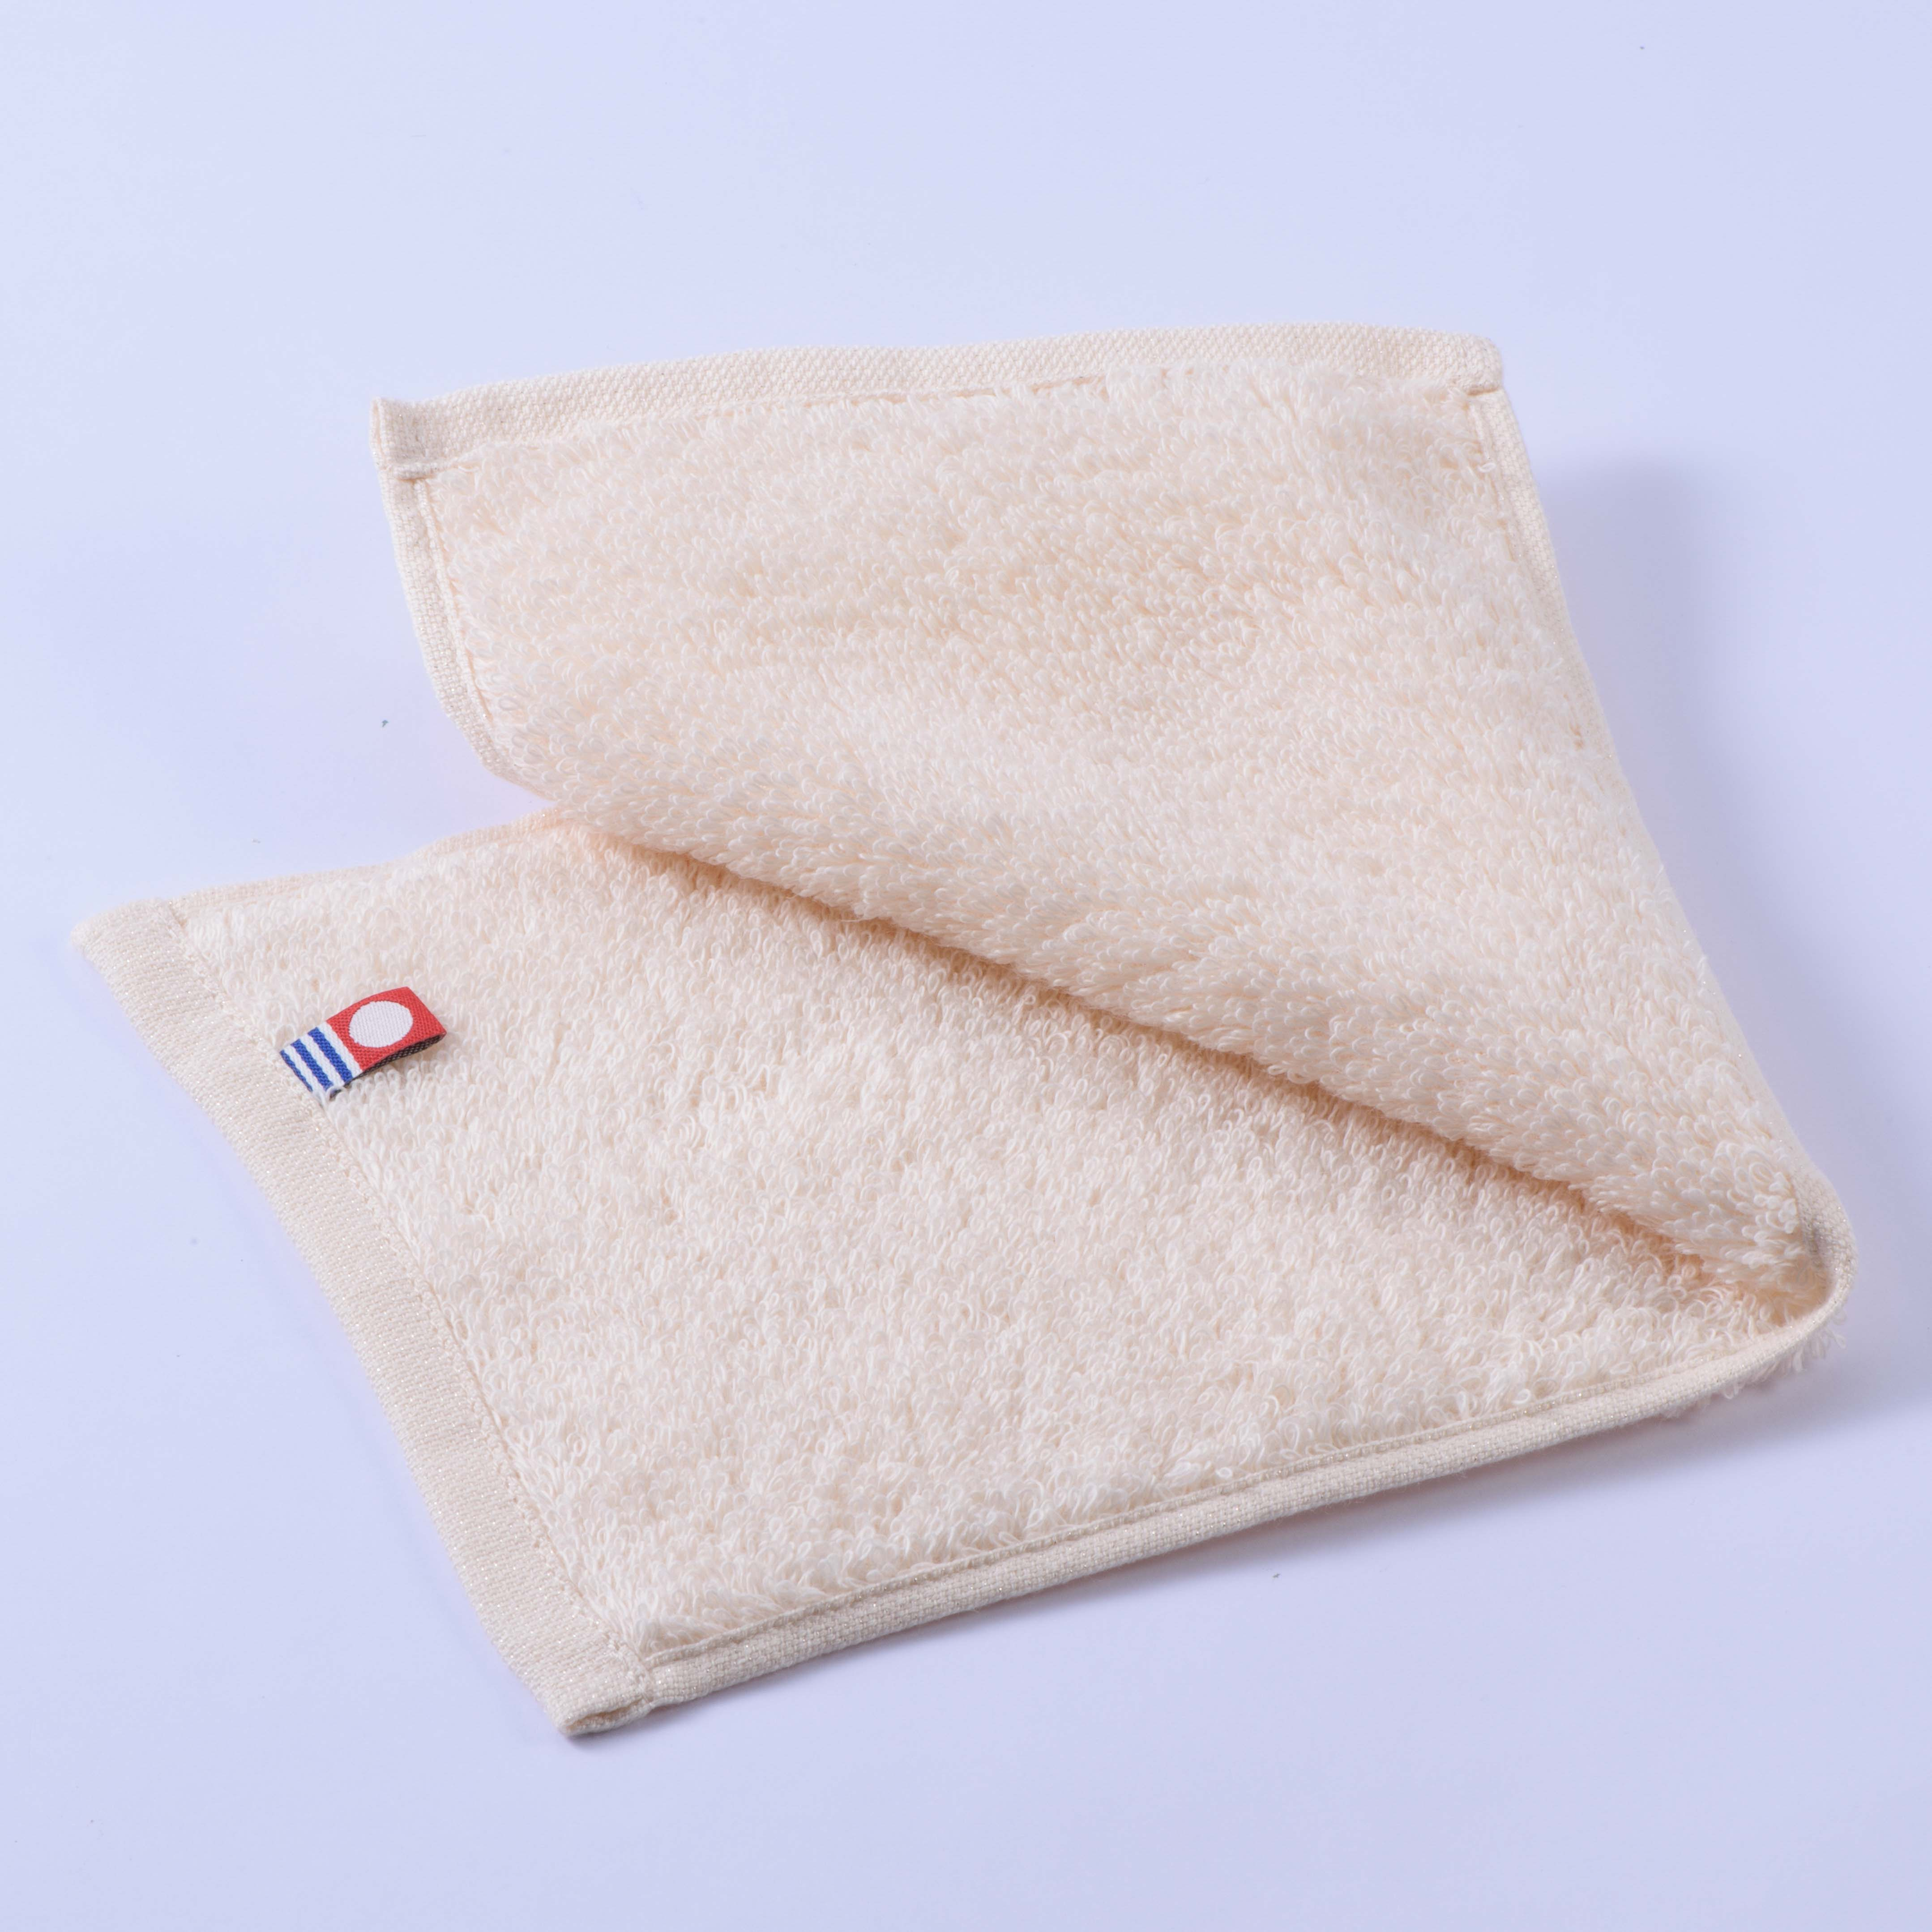flexible: (80, 324, 1867, 1755)
